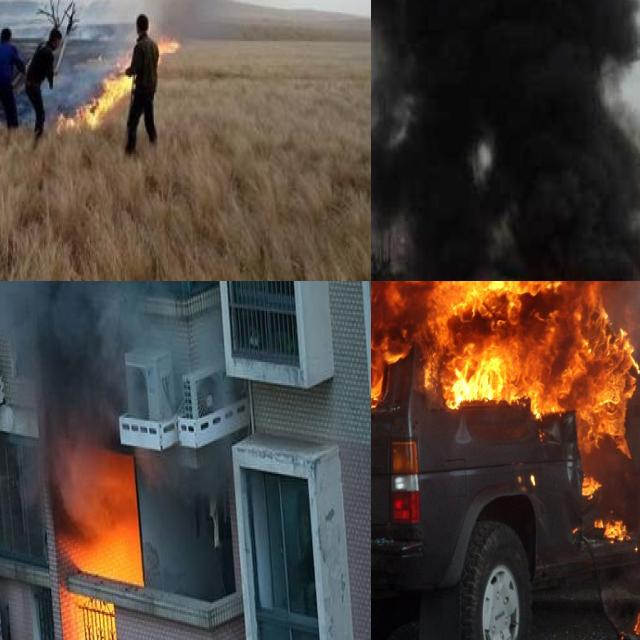fire: (371, 281, 640, 453), (49, 444, 148, 640), (59, 21, 180, 142), (600, 510, 630, 548), (630, 574, 640, 640)
smoke: (371, 0, 640, 281), (0, 281, 160, 437), (120, 0, 247, 41)
